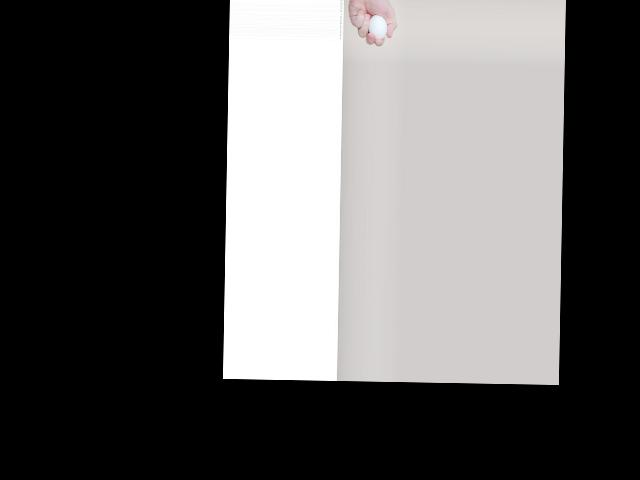egg: (368, 14, 387, 39)
